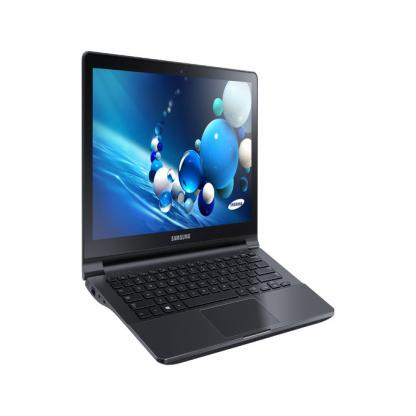board: (78, 52, 336, 368)
